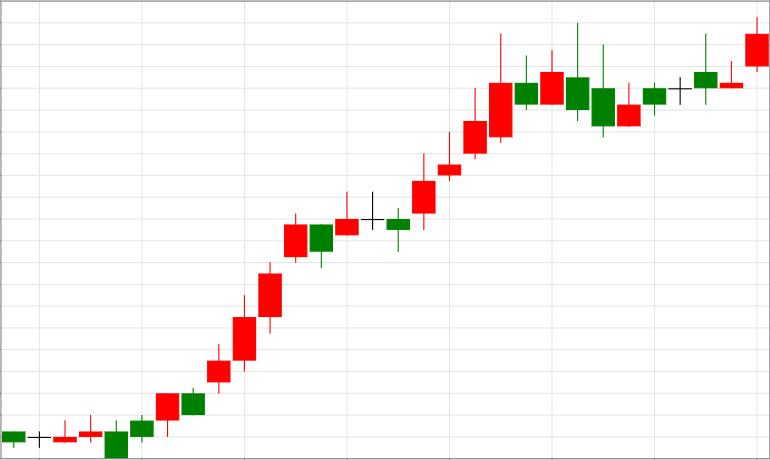shooting_star_fall: (284, 21, 589, 270), (284, 89, 486, 269)
